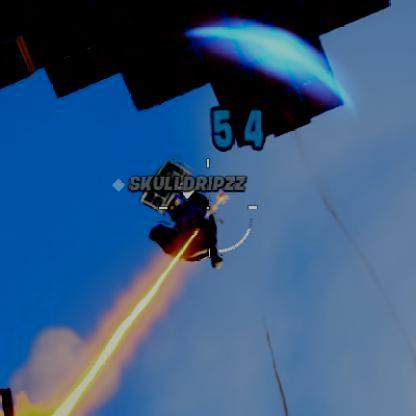person: (164, 178, 231, 276)
